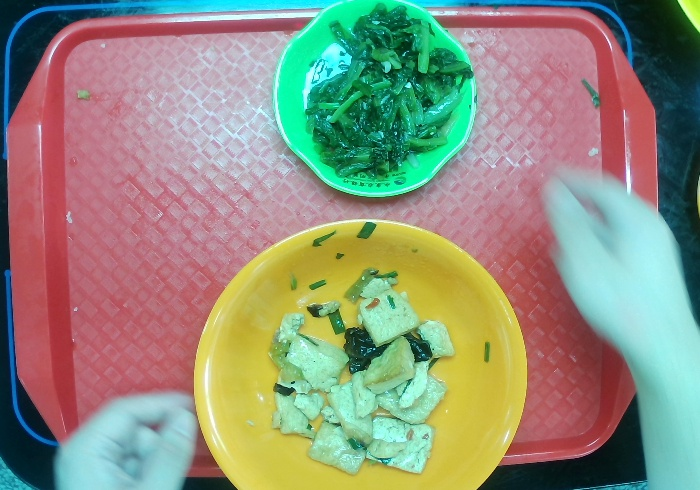YKMZ-Ju_Se_Tang_Wan: (191, 218, 530, 490)
YKMZ-Lv_Se_Ao_Bian_Wan: (269, 1, 479, 200)
